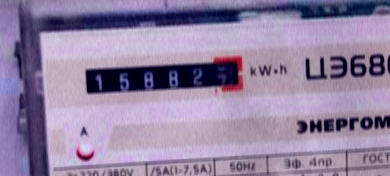1: (90, 71, 102, 91)
2: (189, 66, 201, 85)
5: (115, 70, 127, 91)
7: (214, 72, 225, 87)
8: (140, 69, 152, 90), (165, 68, 177, 89)
screen: (74, 50, 251, 102)
